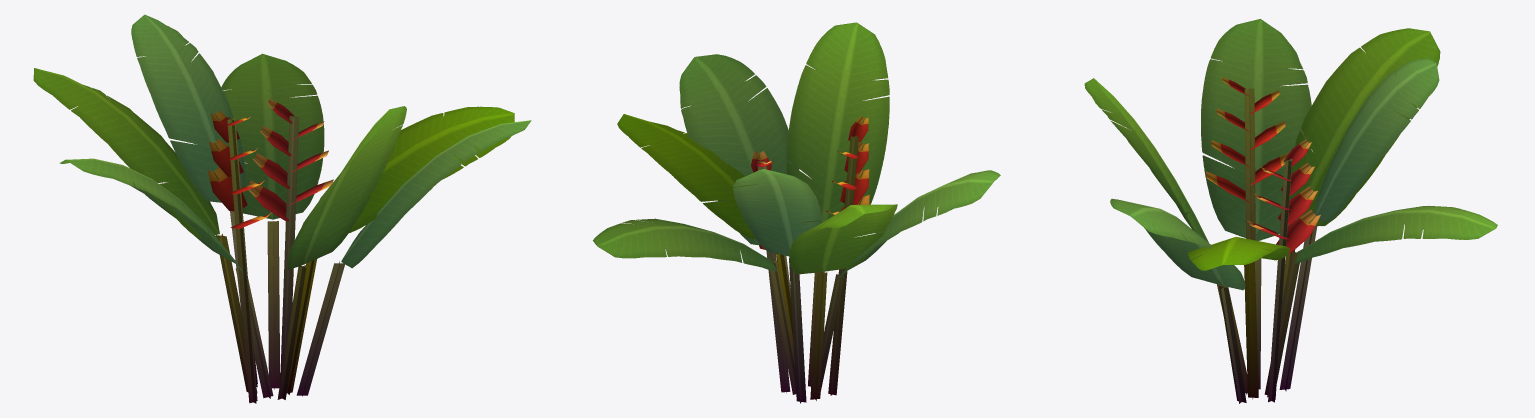
The model's file is heliconia.glb.
3 views of the same model, side by side, from view 1: azimuth 30°, elevation 25°; view 2: azimuth 150°, elevation 25°; view 3: azimuth 270°, elevation 25° (orthographic). The views are drawn at different scales.
Parts seen in each view (by area): view 1: heliconia; view 2: heliconia; view 3: heliconia.
Part boxes in pixels (x1,y1,x2,y2): heliconia: (33, 14, 531, 403); heliconia: (593, 22, 1000, 403); heliconia: (1084, 19, 1497, 403).
Size of the model in its own units: 2.26 by 1.66 by 2.11.
Materials: 1 (1 with a texture image).
